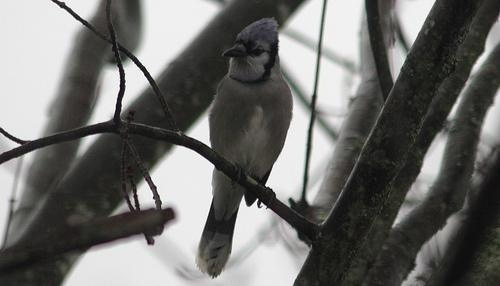bird: (196, 18, 294, 280)
